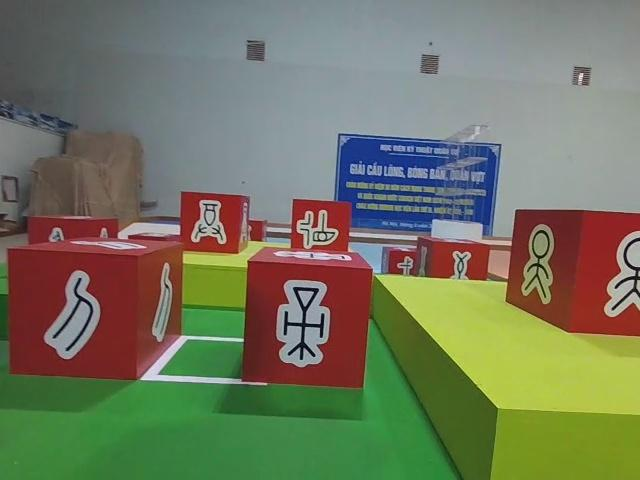R2 Real: (0, 235, 182, 386), (245, 244, 372, 394), (506, 203, 640, 342), (176, 188, 254, 252), (283, 193, 353, 258), (412, 232, 492, 287)
